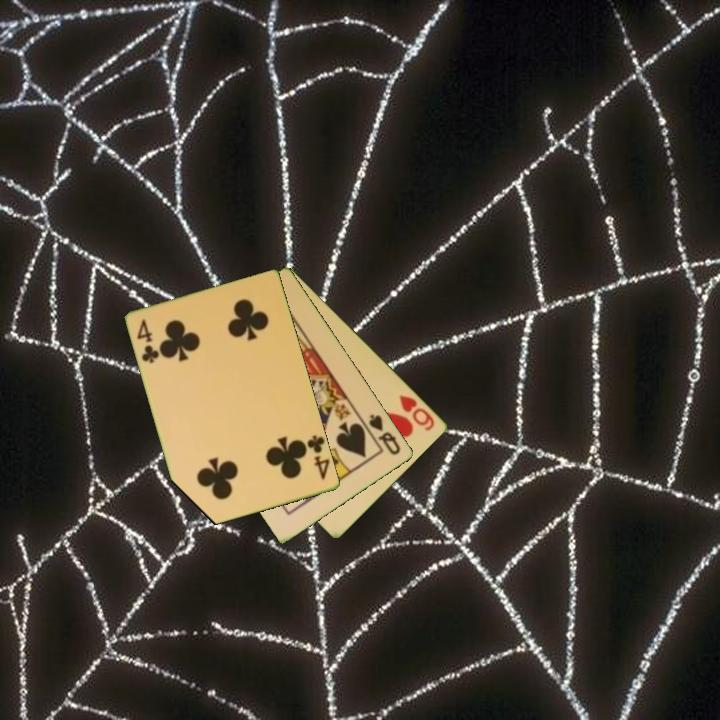4c: (304, 432, 333, 483), (134, 316, 162, 366)
6h: (396, 391, 438, 434)
Qs: (365, 410, 404, 458)
